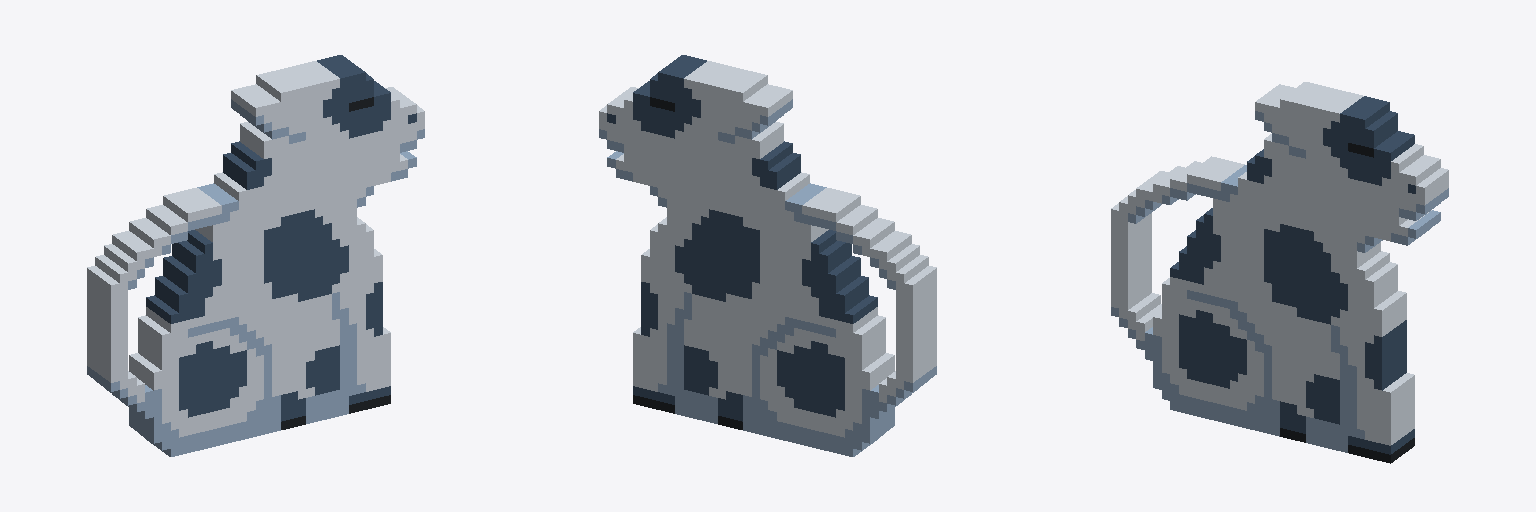
Rendered from CowPitcher.obj.
3 views of the same model, side by side, from view 1: azimuth 30°, elevation 25°; view 2: azimuth 150°, elevation 25°; view 3: azimuth 330°, elevation 25° (orthographic).
Size of the model in its own units: 37 by 38 by 5.